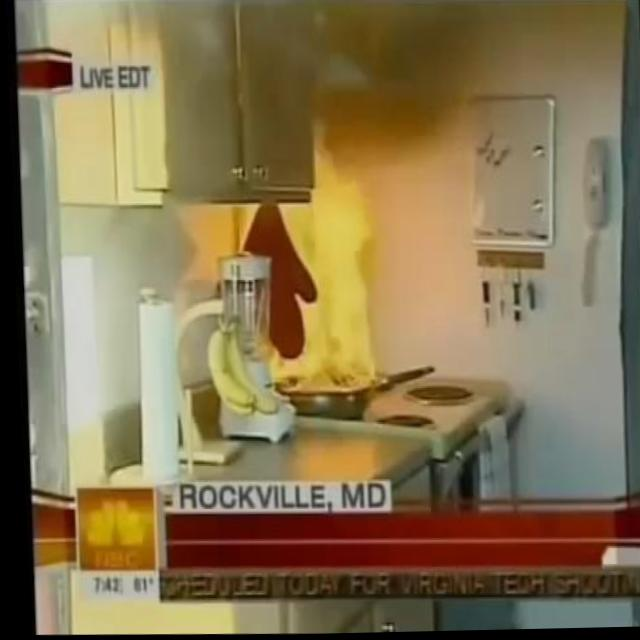fire: (257, 162, 379, 391)
